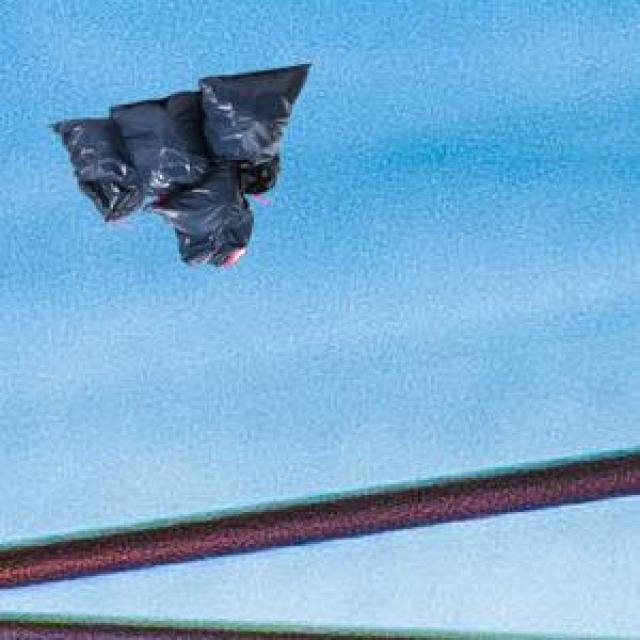miscellaneous trash: (45, 60, 306, 262)
